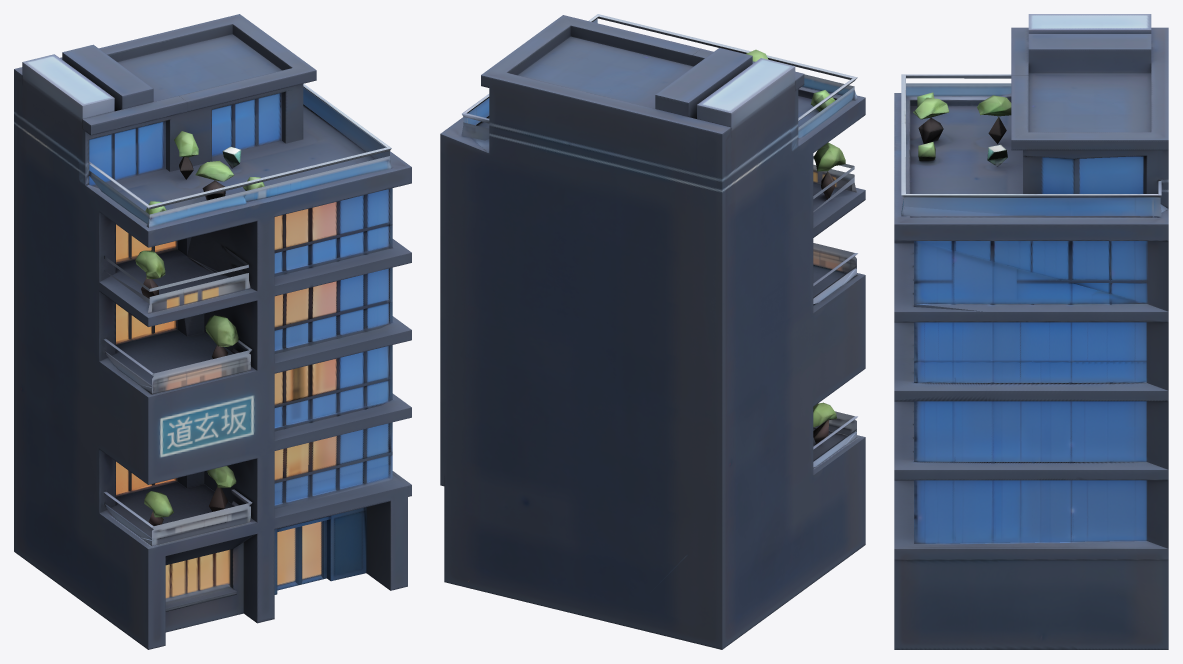
Rendered from edificio2.obj.
3 views of the same model, side by side, from view 1: azimuth 30°, elevation 25°; view 2: azimuth 150°, elevation 25°; view 3: azimuth 270°, elevation 25° (orthographic). The views are drawn at different scales.
Visible parts, largest first — view 1: model; view 2: model; view 3: model.
Boxes of the visible parts, x1,y1,x2,y2 form: model: (14, 14, 411, 649); model: (440, 14, 865, 649); model: (894, 14, 1168, 649).
Bounding box in the file's own units: 1.06 × 1.9 × 0.9334.
1 material, 1 textured.
